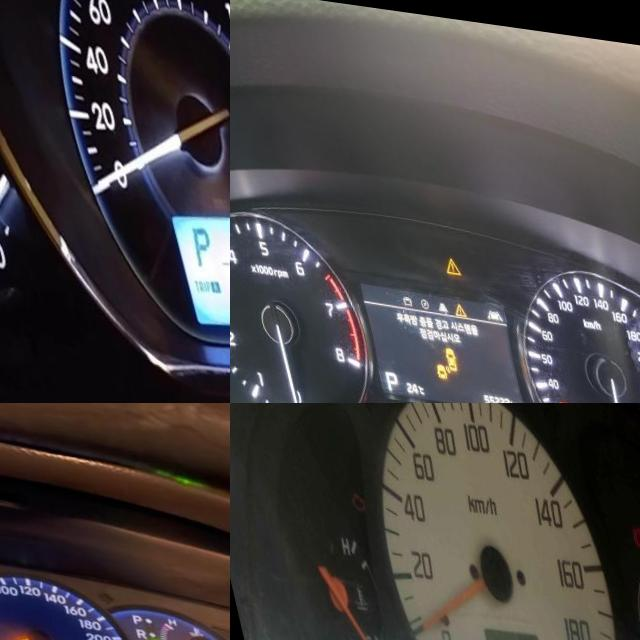Central Warning lamp: (430, 244, 449, 265)
